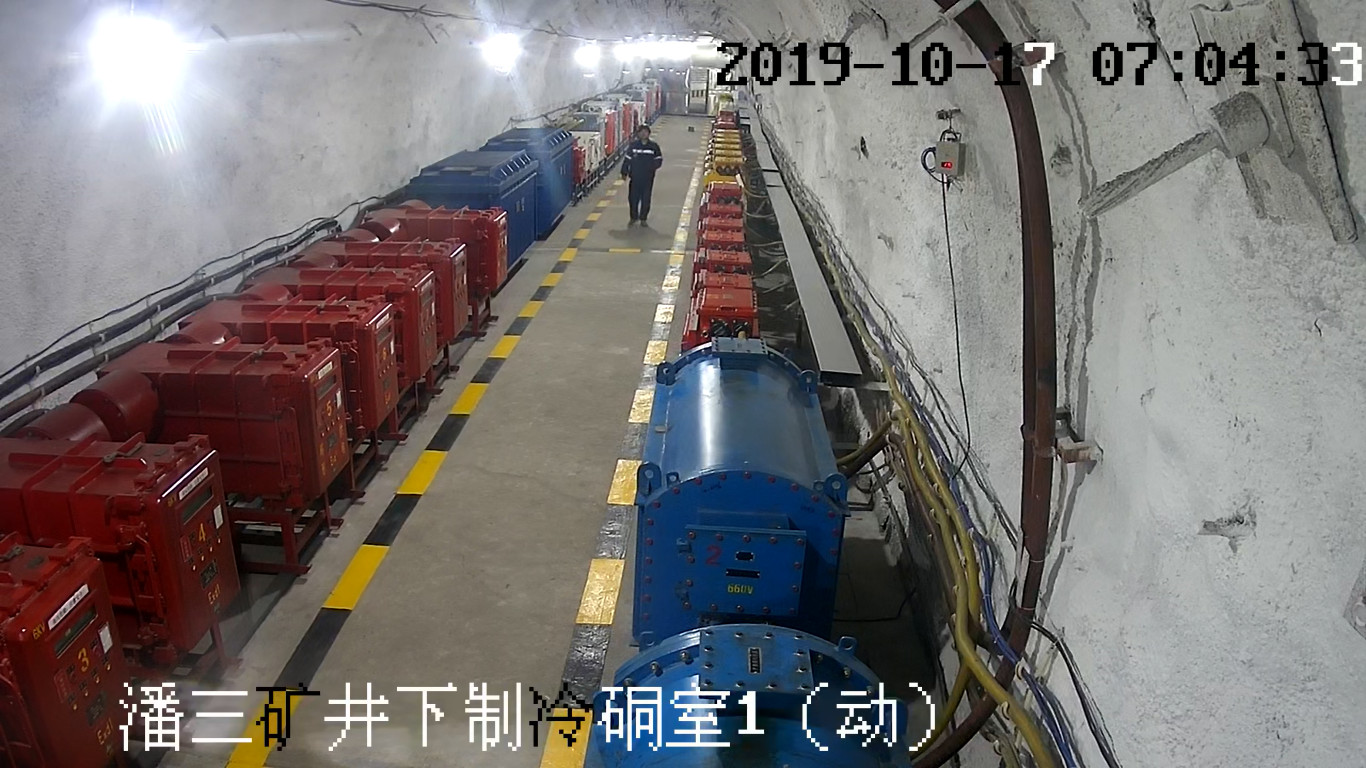helmet: (636, 123, 651, 134)
